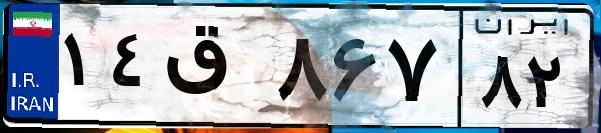1: (57, 26, 110, 100)
2: (525, 38, 570, 115)
4: (110, 28, 158, 98)
6: (330, 28, 385, 110)
7: (385, 28, 445, 110)
8: (270, 28, 330, 110), (475, 38, 525, 113)
ق: (158, 20, 270, 120)
